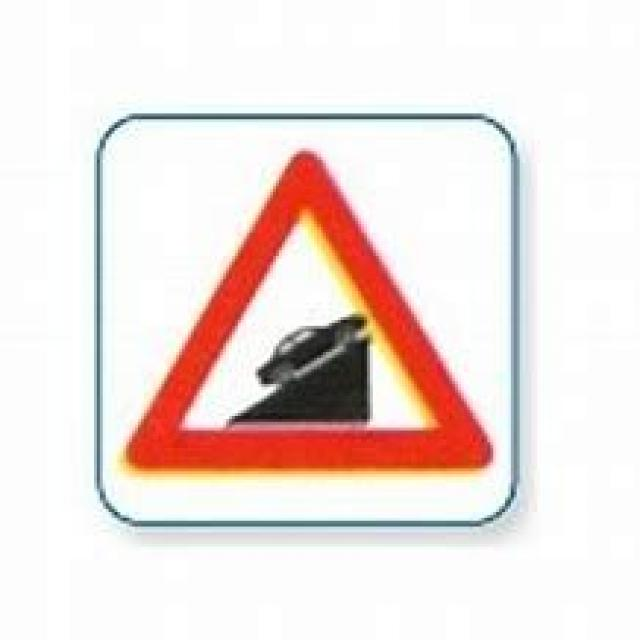STEEP_ASCENT: (124, 146, 494, 474)
